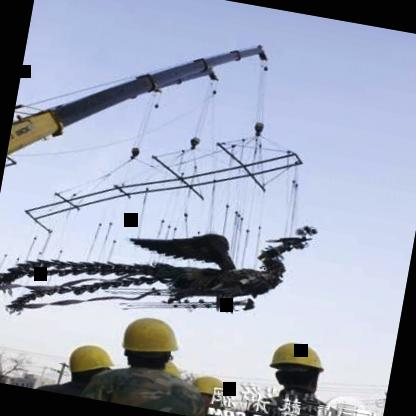helmet: (110, 304, 192, 381), (260, 330, 337, 401), (58, 332, 130, 395), (184, 368, 233, 410)
